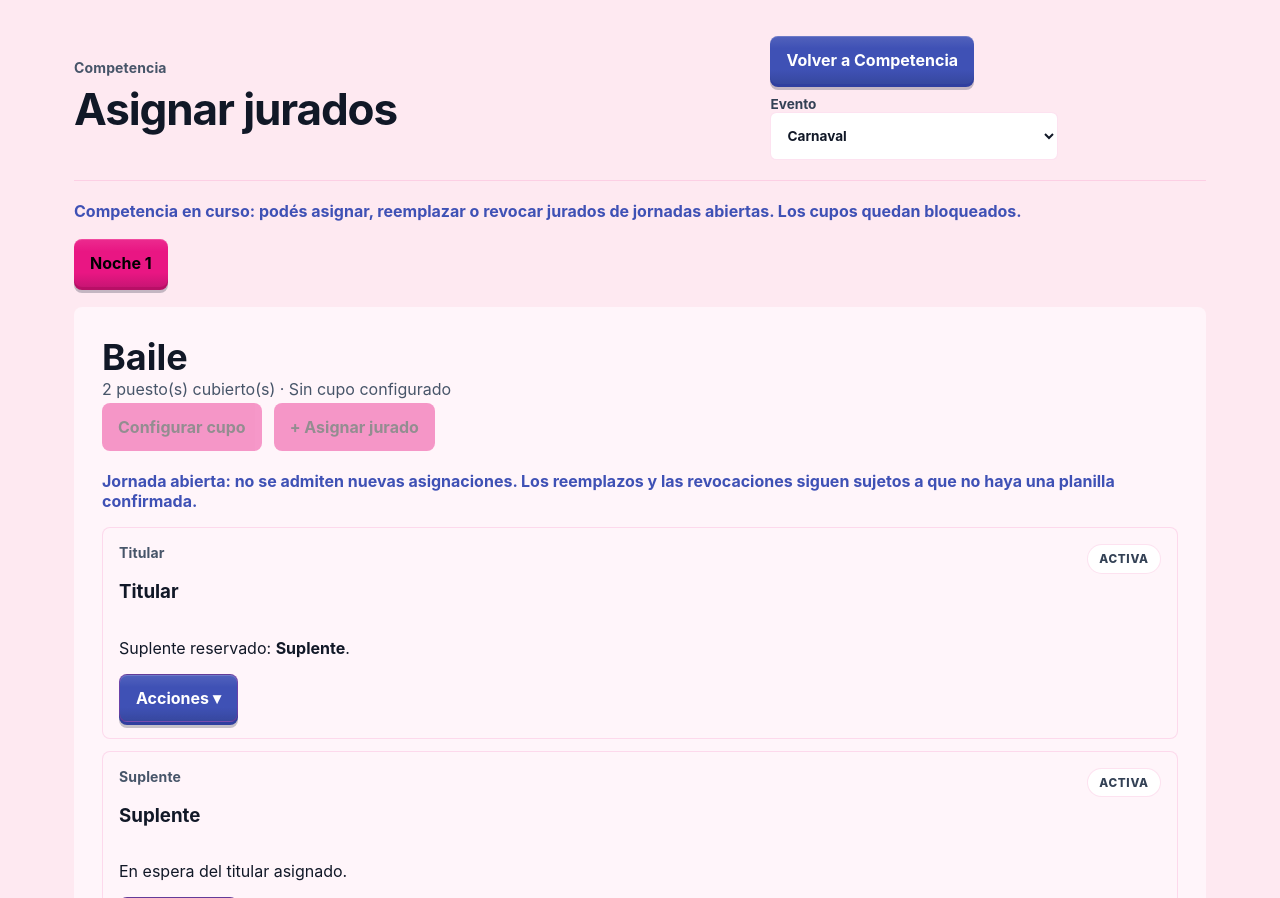
Test case: AdminAssignmentsPage › bloquea altas nuevas cuando la jornada ya está abierta y conserva las acciones de reemplazo
The image size is (1280, 898).
Expected: the text "Jornada abierta: no se admiten nuevas asignaciones" is shown, [102, 471, 1115, 511]
Expected: the button "+ Asignar jurado" is disabled, [274, 403, 435, 451]
Click the button with aria-label "Acciones para Titular" at (178, 698), box [119, 674, 238, 722]
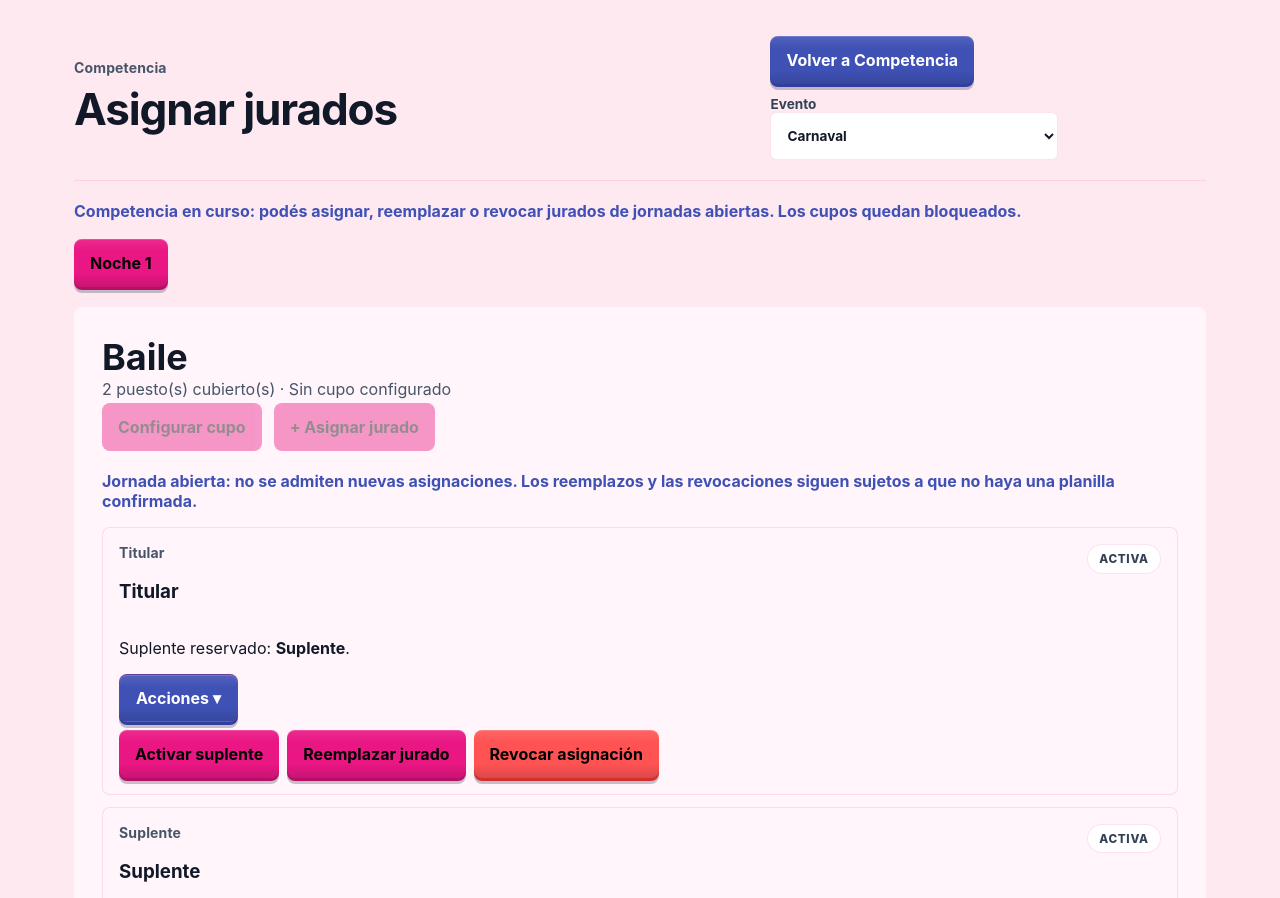
Expected: the button "Activar suplente" is enabled, [119, 730, 279, 778]
Expected: the button "Reemplazar jurado" is enabled, [287, 730, 466, 778]
Expected: the button "Revocar asignación" is enabled, [474, 730, 659, 778]
